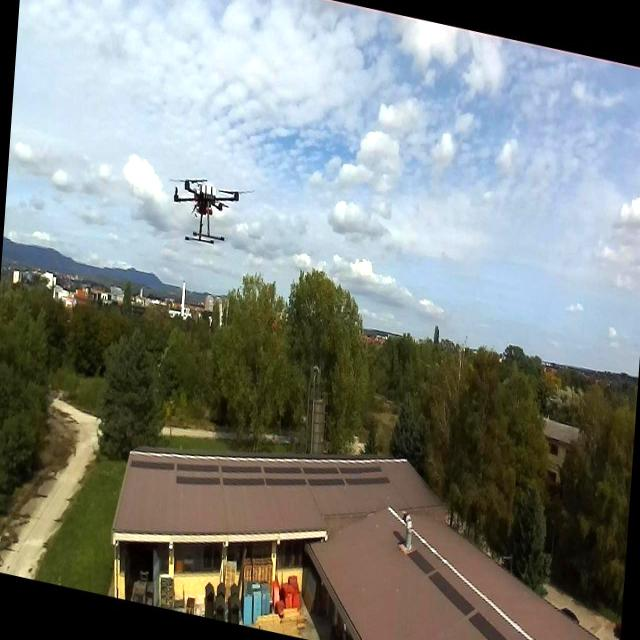drone: (161, 165, 245, 255)
